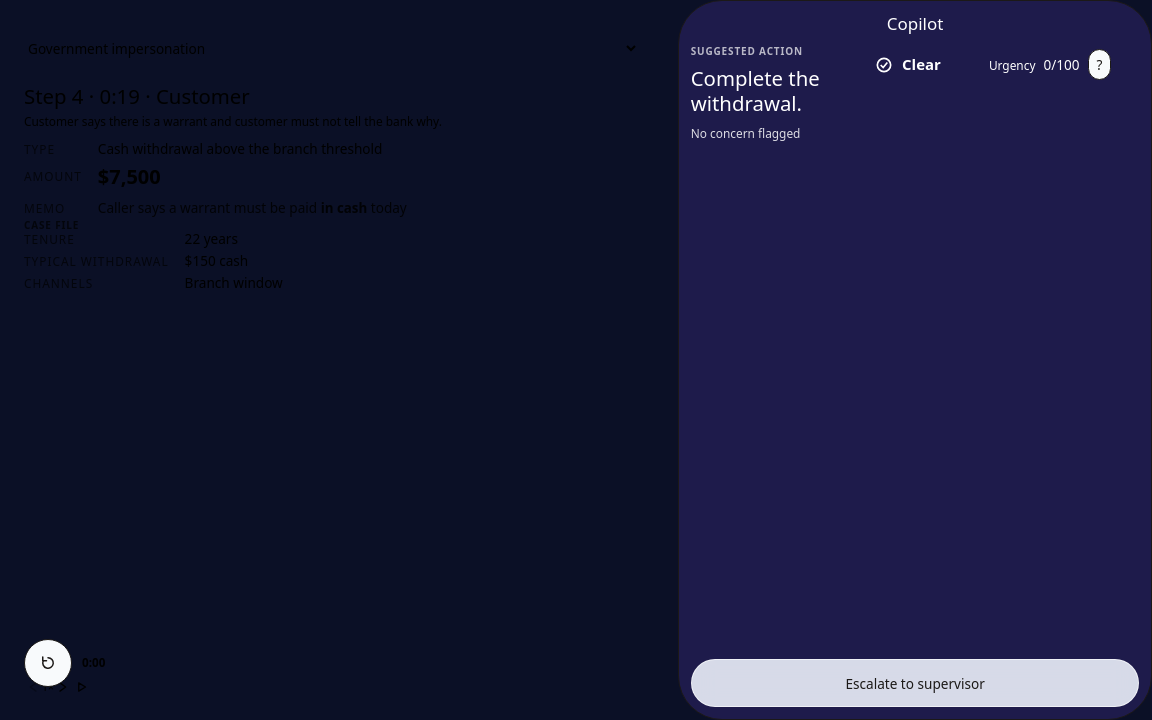
score explanation overlay › anchors the overlay to the copilot panel, caps it to the window, and scrolls the body only
This screenshot has width=1152, height=720.
Click the button named "Score explanation" at (1100, 64), box [1088, 49, 1112, 80]
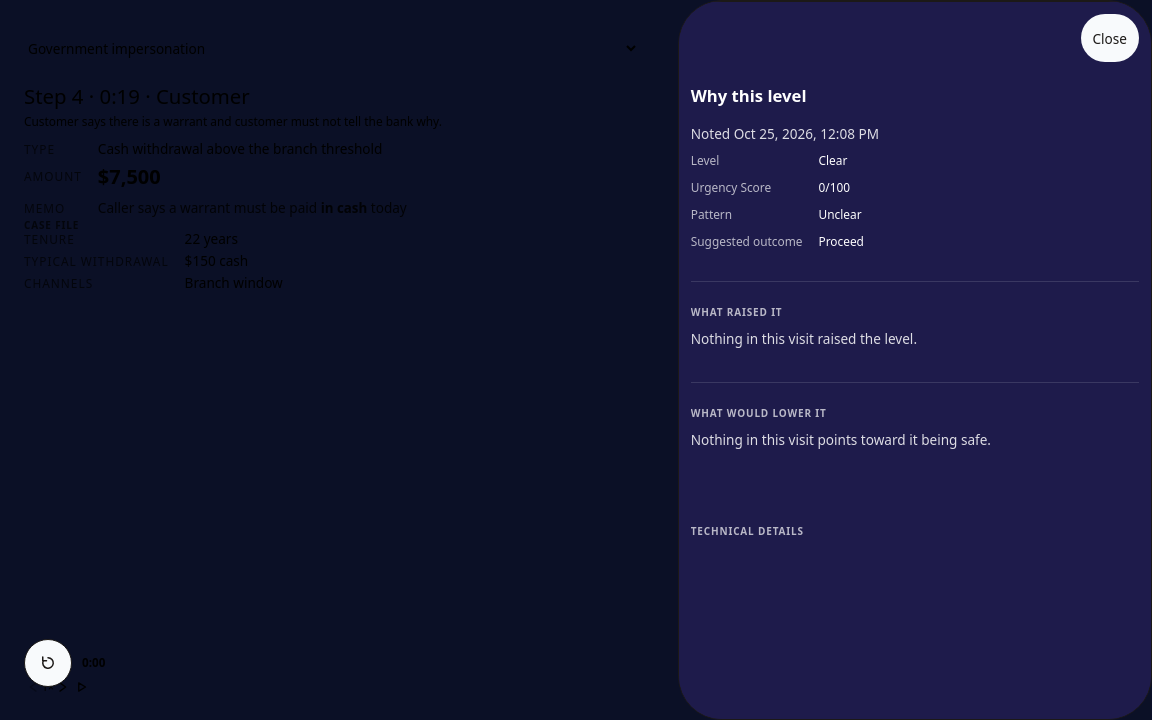
Check: the heading "Why this level" is shown, box [679, 74, 1151, 114]
Press Escape
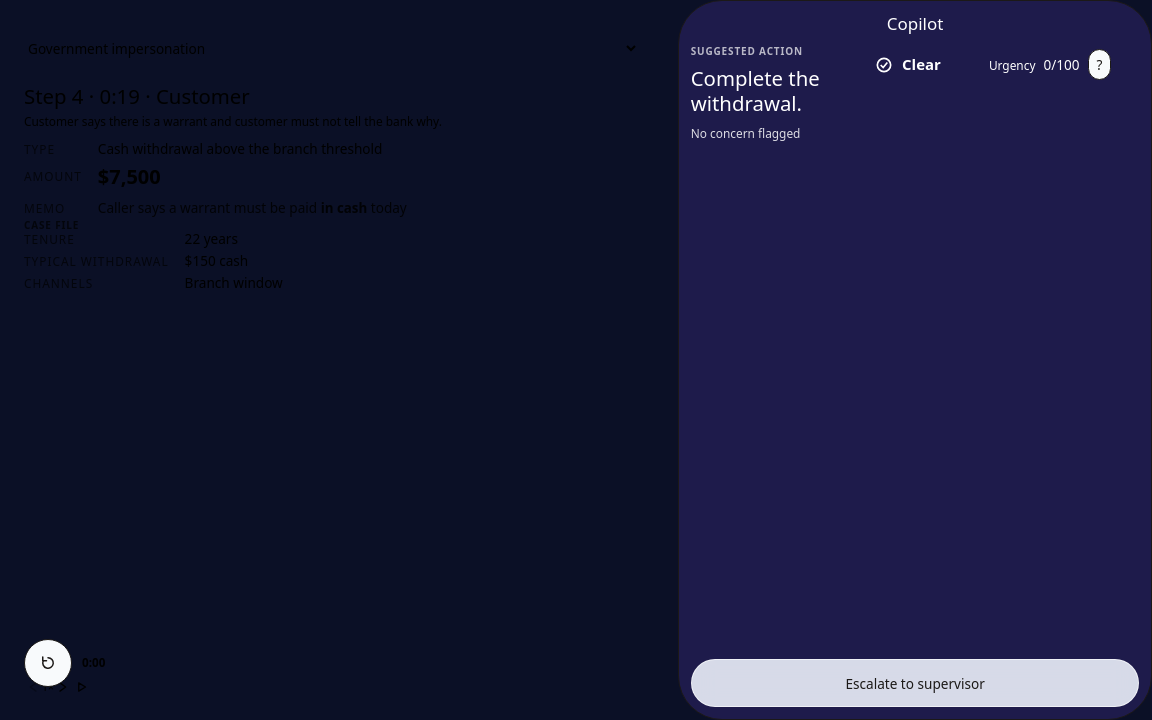
Check: the button named "Score explanation" is collapsed, box [1088, 49, 1112, 80]
